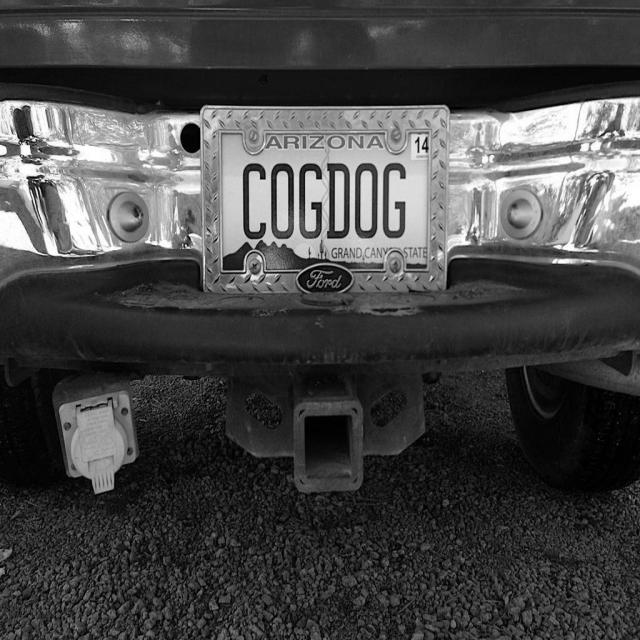plate: (202, 105, 448, 294)
